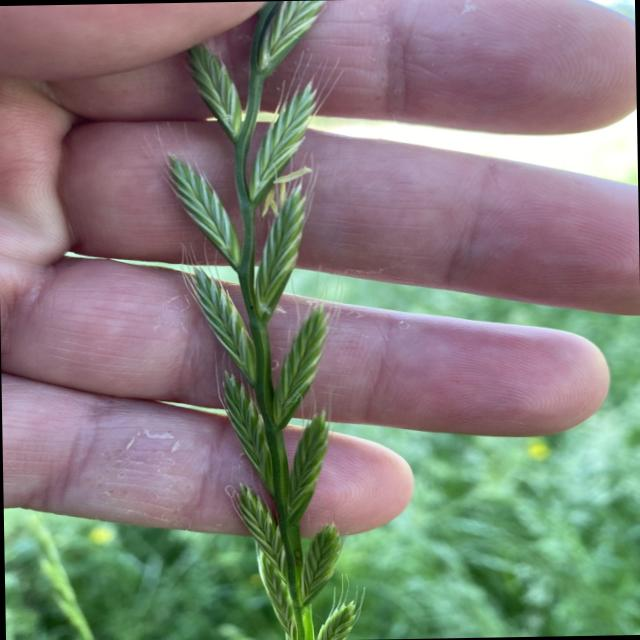Lolium: (154, 0, 367, 640)
